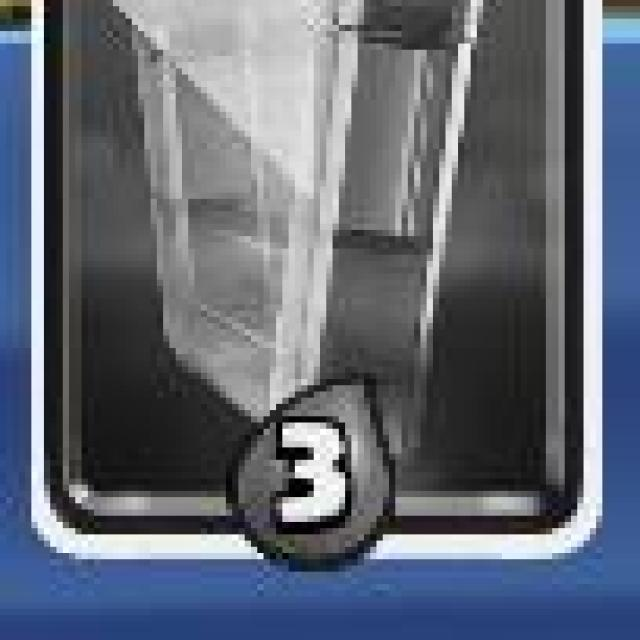Clone_Spell: (27, 0, 609, 568)
